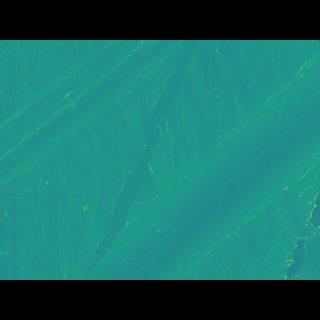Loch: (82, 77, 319, 250), (0, 68, 192, 190)
